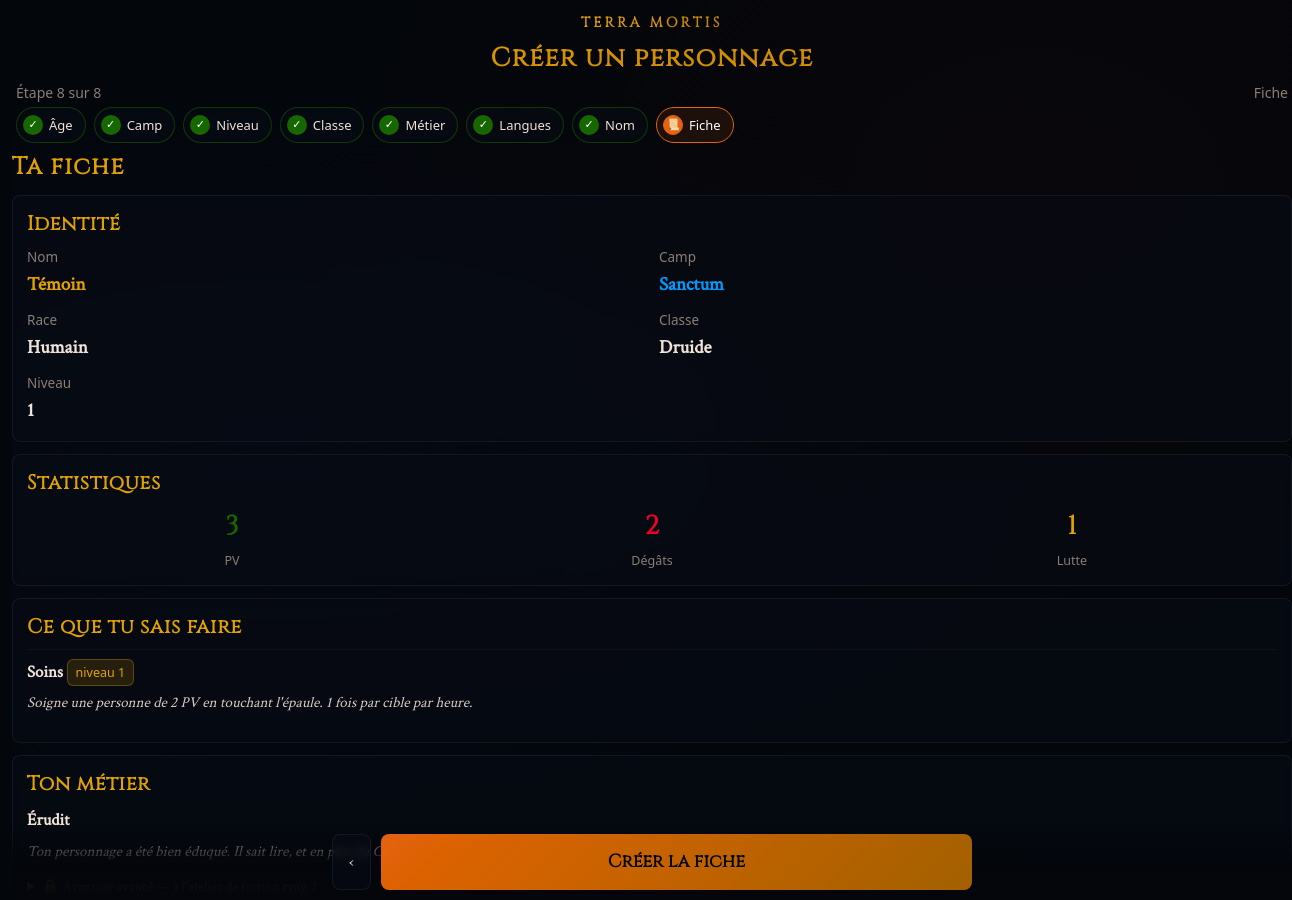
Test: D24 · G5 — enregistrement du métier et des langues › Druide + Érudit : le Druidique ET les 2 langues choisies s’enregistrent
What coordinates should you click on to do the following:
click the button "Créer la fiche"
I would click on:
 (676, 862)
Its box is left=381, top=834, right=972, bottom=890.
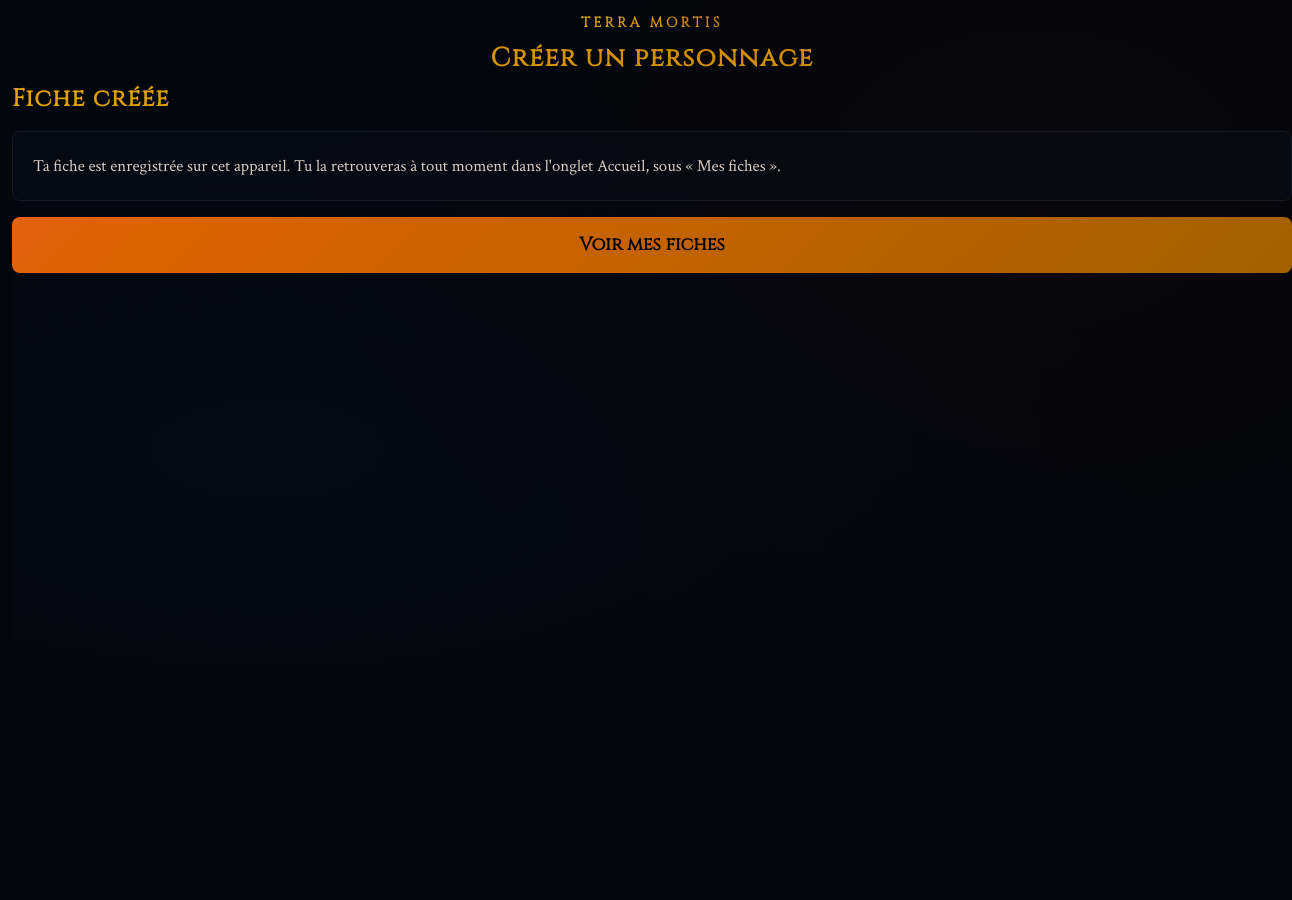
Expected: the text "enregistrée sur cet appareil" is shown, left=33, top=155, right=781, bottom=177
